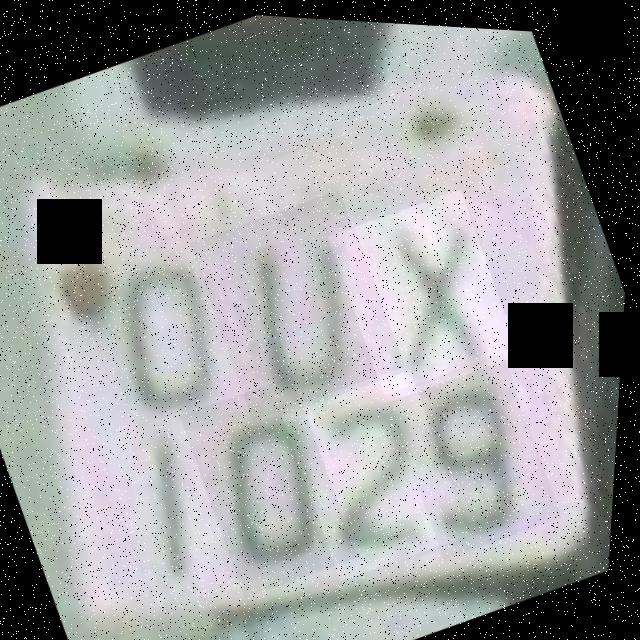0: (176, 366, 372, 599)
1: (97, 409, 243, 604)
2: (279, 358, 482, 581)
9: (382, 340, 575, 559)
O: (63, 215, 274, 454)
U: (184, 178, 416, 423)
X: (323, 176, 531, 403)
